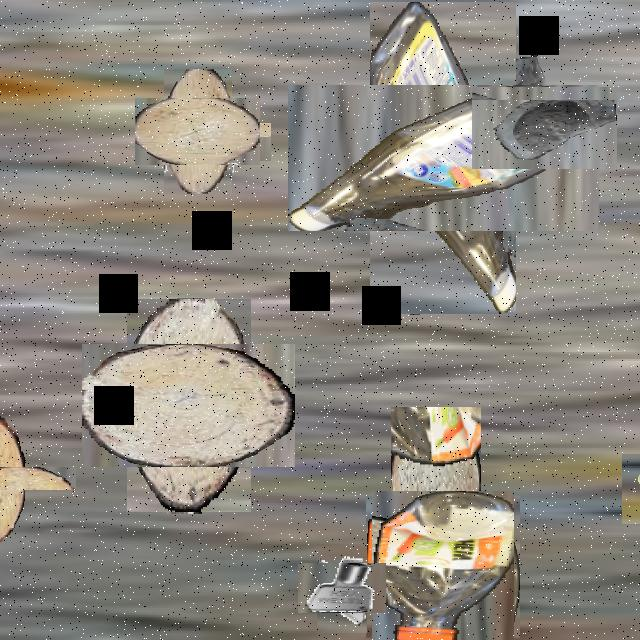glass: (487, 71, 601, 185)
metal: (307, 554, 377, 623), (210, 116, 264, 168), (622, 454, 640, 524)
plastic: (328, 43, 558, 273), (369, 493, 517, 640)
wood: (105, 321, 273, 490), (391, 407, 481, 557), (150, 83, 246, 180), (0, 440, 50, 516)
